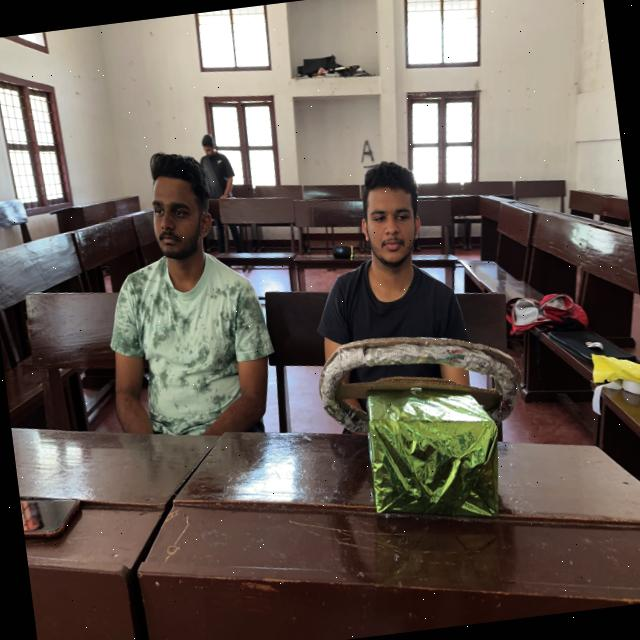Helmet: (300, 246, 492, 463), (98, 260, 284, 481)
